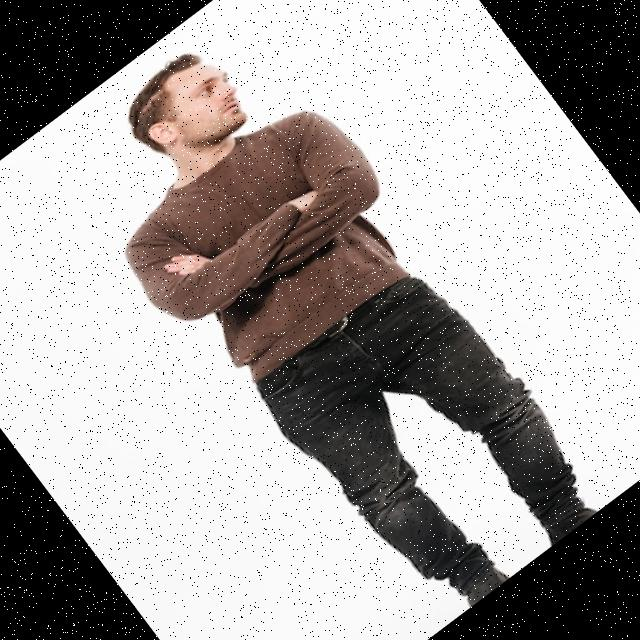Person: (45, 0, 631, 640)
